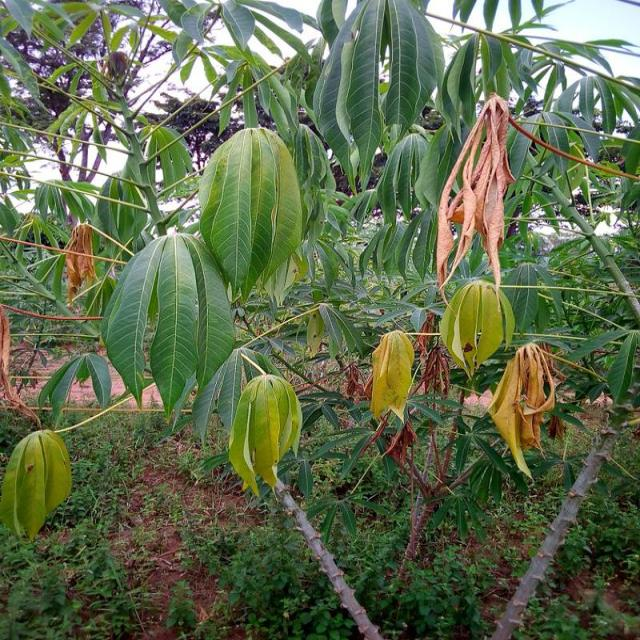cassava leaf: (102, 232, 236, 422), (198, 125, 304, 306), (487, 341, 560, 479), (229, 372, 304, 496), (1, 428, 73, 542), (440, 277, 516, 379), (370, 328, 416, 428)
